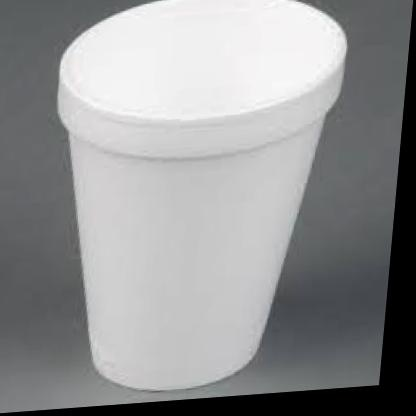trash: (58, 0, 346, 389)
